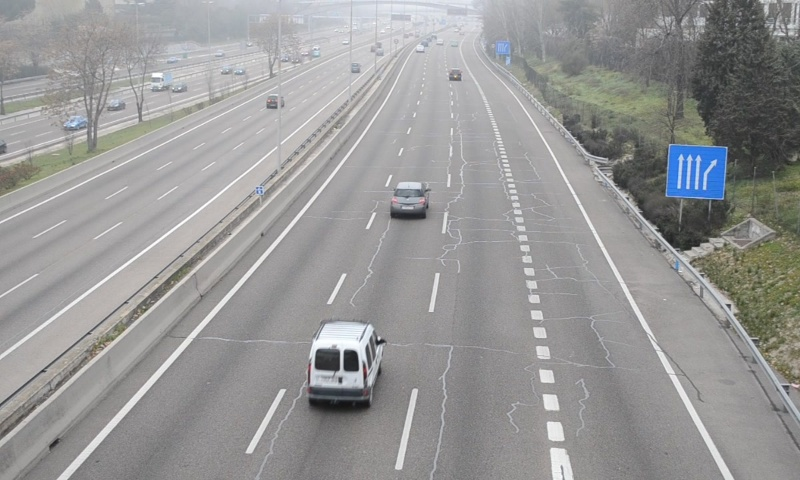car: (390, 180, 428, 216)
van: (306, 322, 384, 403)
